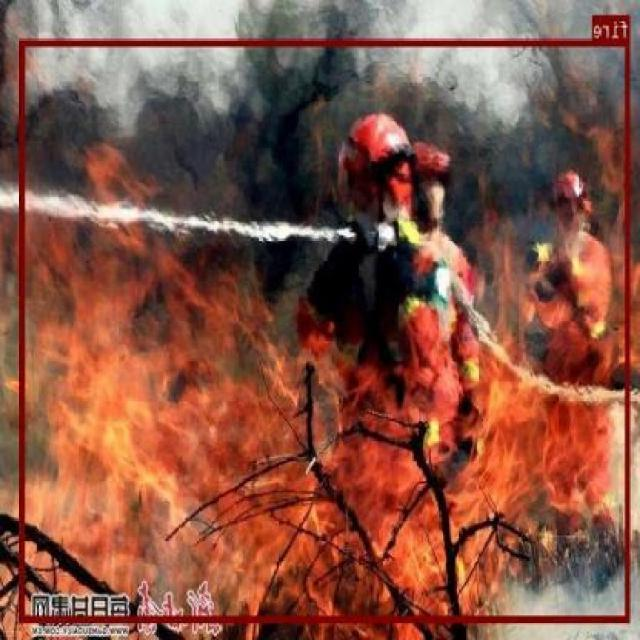Fire: (22, 38, 630, 622)
